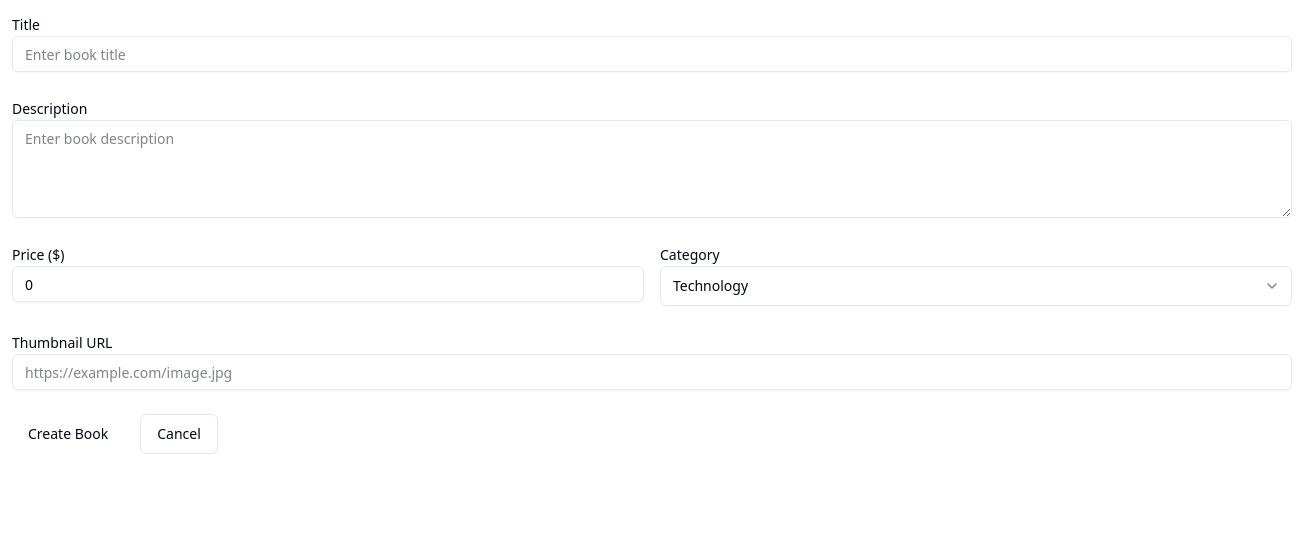
Scenario: BookForm Component › shows validation errors for empty required fields
Click the button "Create Book": (68, 434) top-left (12, 414), bottom-right (124, 454)
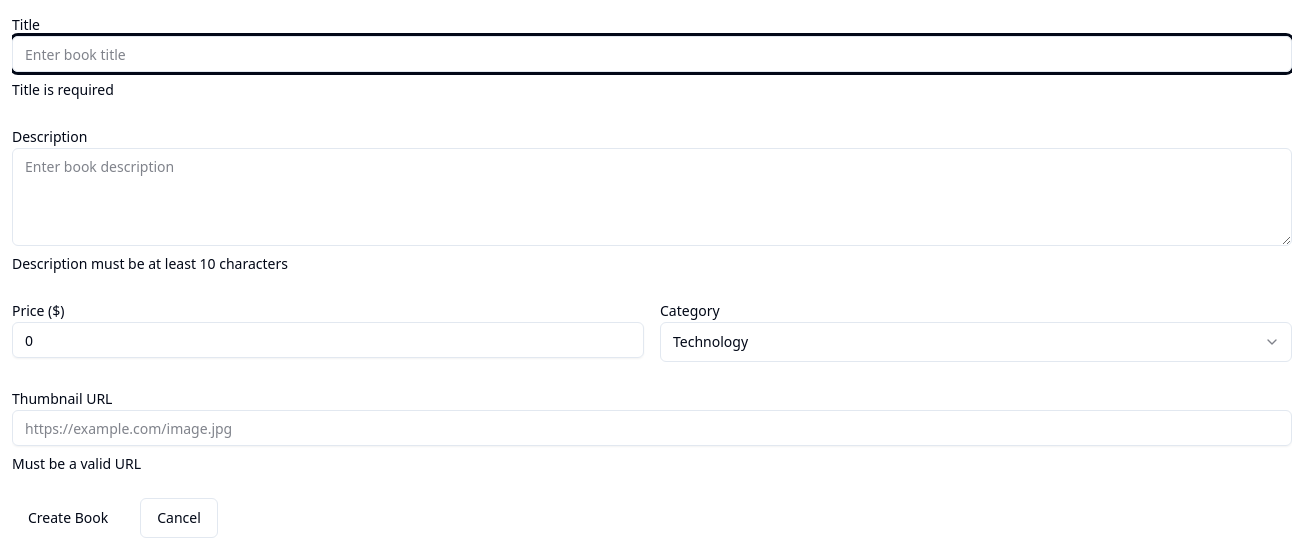
Expected: the text "Title is required" is shown, top-left (12, 80), bottom-right (114, 99)
